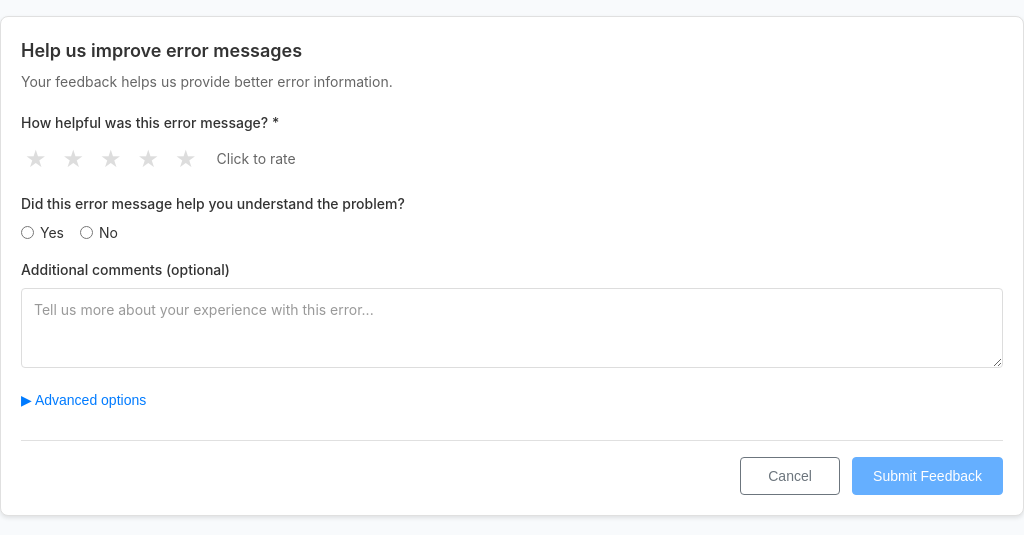
ErrorFeedback › Rating Interaction › should show correct rating text for each rating
Step 1. Click the button named "Rate 1 stars" → {"x": 36, "y": 159}, box [21,141,50,177]
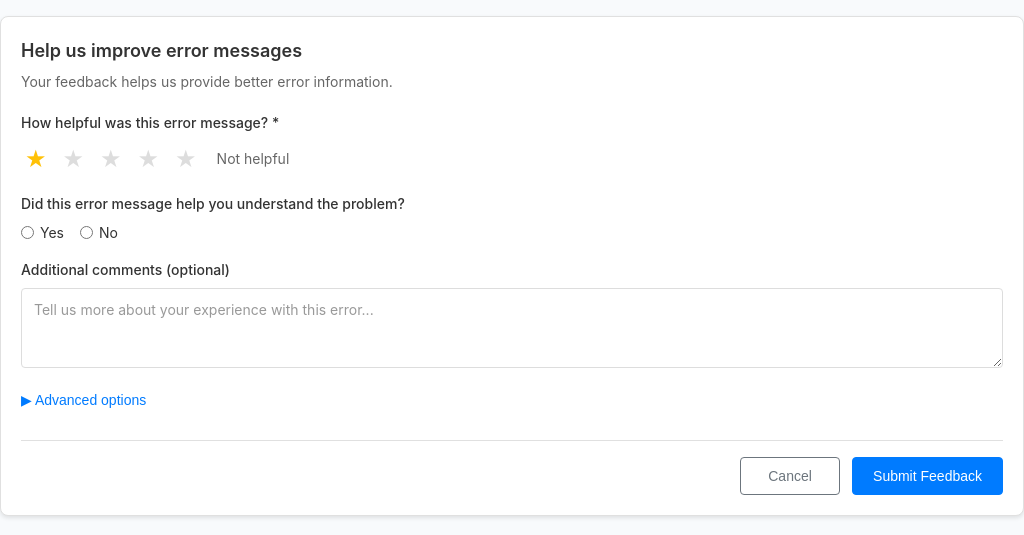
Expected: the text "Not helpful" is shown, [217,148,289,169]
Step 2. Click the 2nd button "★" → {"x": 73, "y": 159}, box [58,141,88,177]
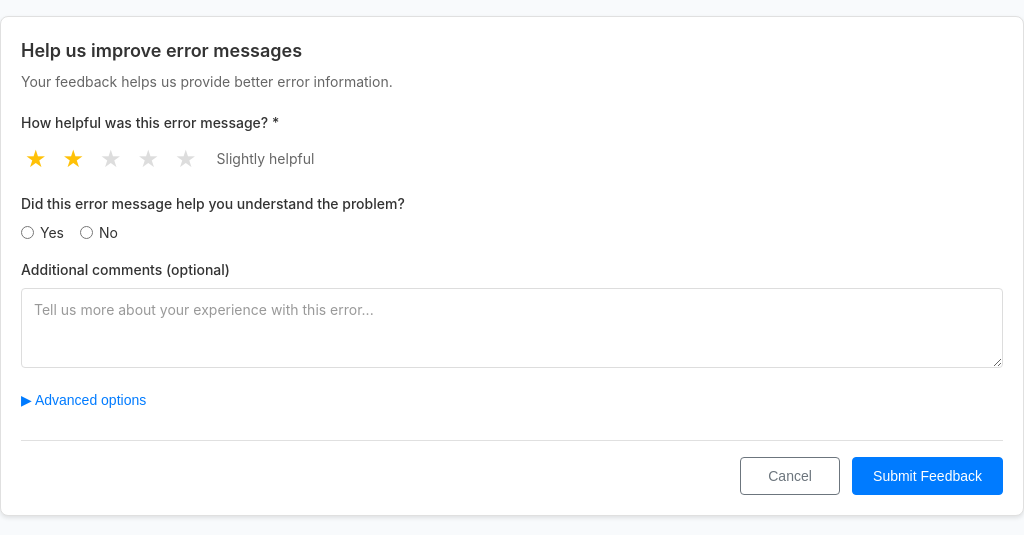
Expected: the text "Slightly helpful" is shown, [217,148,314,169]
Step 3. Click the button named "Rate 3 stars" → {"x": 111, "y": 159}, box [96,141,126,177]
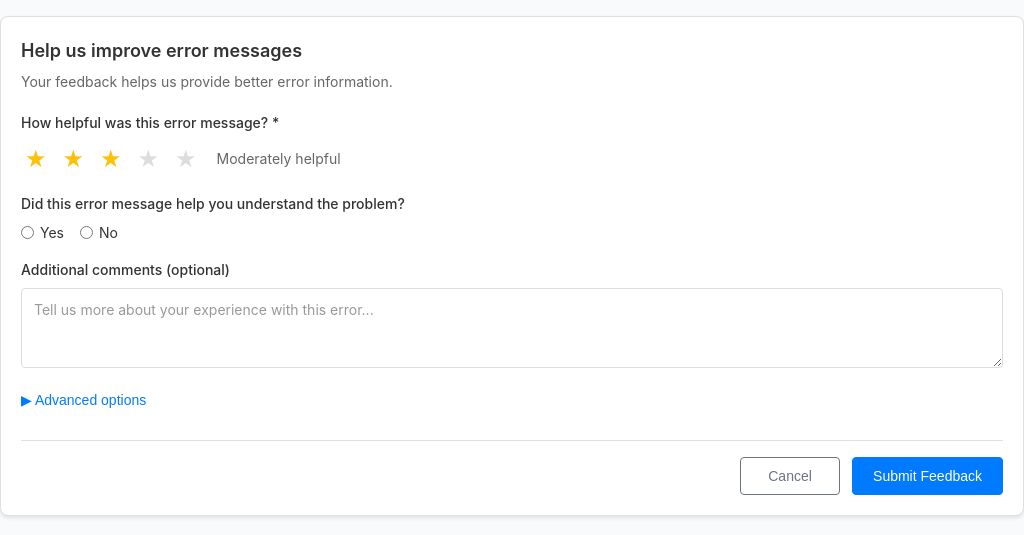
Expected: the text "Moderately helpful" is shown, [217,148,341,169]
Step 4. Click the button named "Rate 4 stars" → {"x": 148, "y": 159}, box [134,141,163,177]
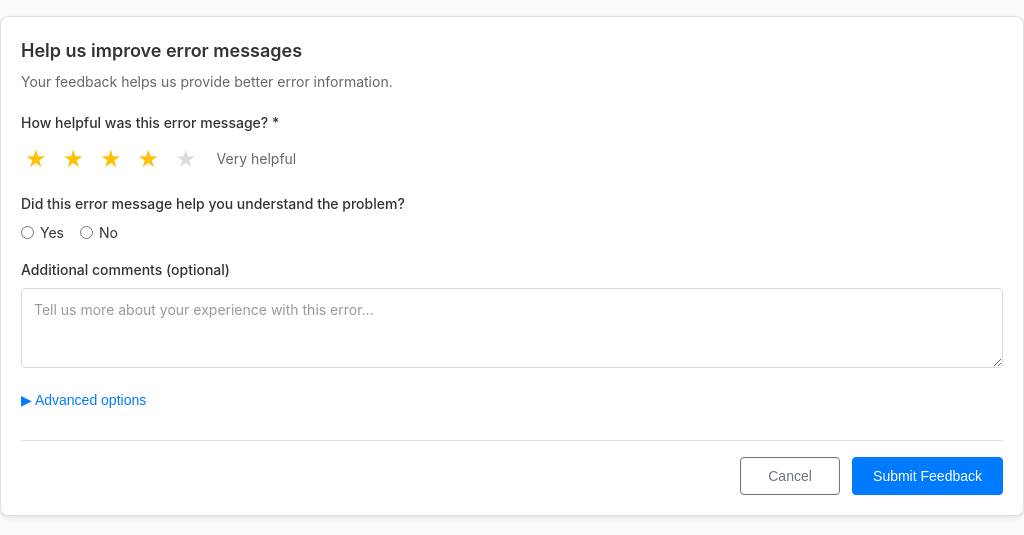
Expected: the text "Very helpful" is shown, [217,148,296,169]
Step 5. Click the 5th button "★" → {"x": 186, "y": 159}, box [171,141,201,177]
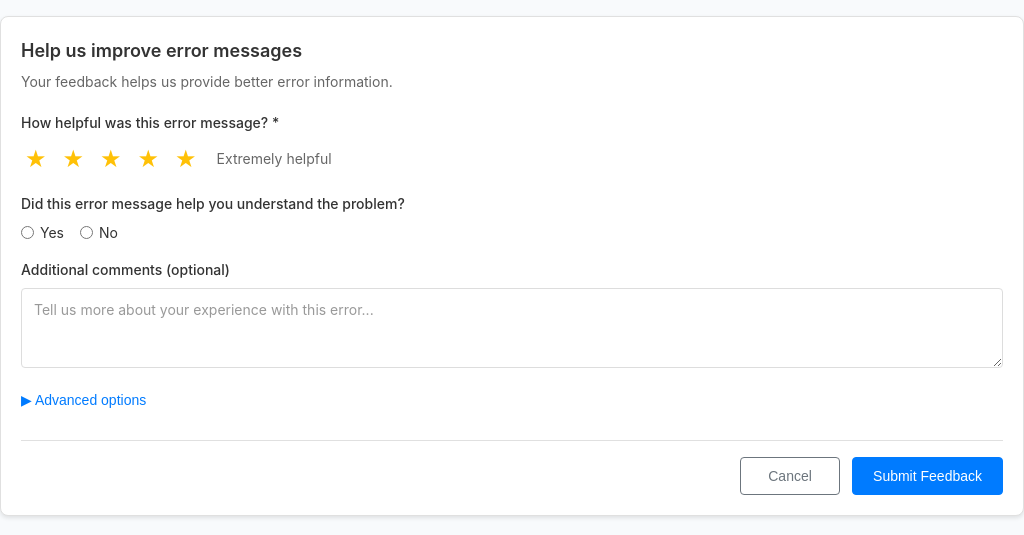
Expected: the text "Extremely helpful" is shown, [217,148,332,169]
